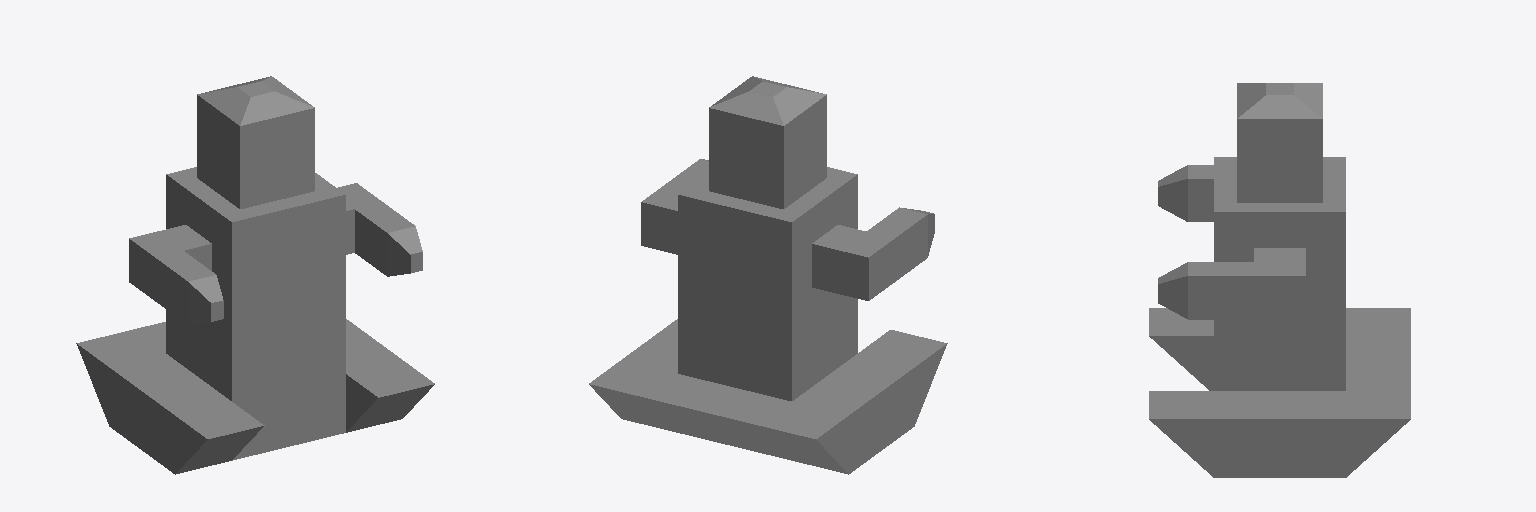
File: Player.obj
3 views of the same model, side by side, from view 1: azimuth 30°, elevation 25°; view 2: azimuth 150°, elevation 25°; view 3: azimuth 270°, elevation 25° (orthographic).
Visible parts, largest first — view 1: Box03; view 2: Box03; view 3: Box03.
Boxes of the visible parts, x1,y1,x2,y2 form: Box03: [76, 76, 434, 474]; Box03: [589, 76, 947, 474]; Box03: [1149, 83, 1410, 477].
Bounding box in the file's own units: 2 × 2.8 × 2.